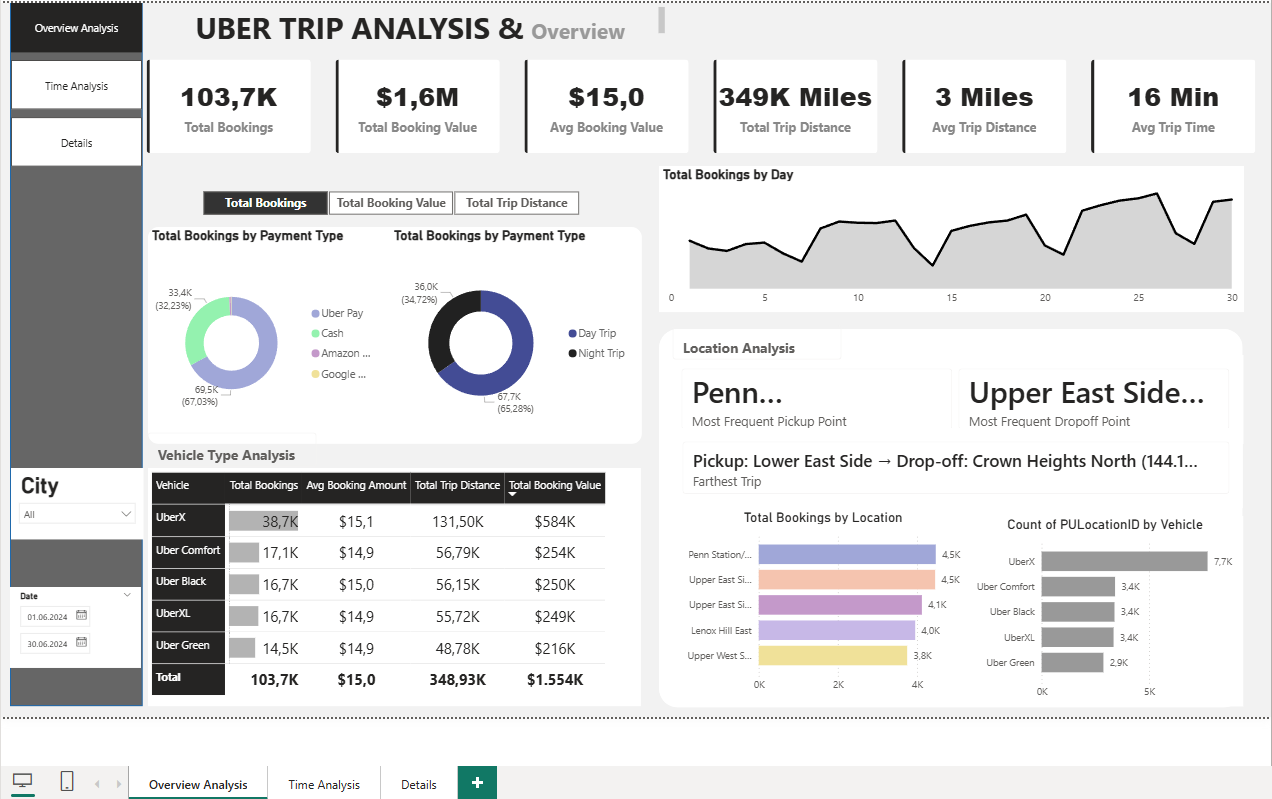

What the dashboard file says about the page in this screenshot:
{"tool":"powerbi","page":{"name":"Overview Analysis","canvas":[1600,900],"ordinal":0},"visuals":[{"type":"shape","box":[10.8,0,167,885.8],"z":0},{"type":"textbox","box":[228.8,0,612.2,63.4],"z":1000},{"type":"cardVisual","fields":{"Data":["Trip Details.Total Bookings","Trip Details.Total Booking Amount","Trip Details.Avg Booking Amount","Trip Details.Total Trip Distance","Trip Details.Avg Trip Distance","Trip Details.Avg Trip Time"]},"box":[166.8,53.7,1432.8,152.2],"z":2000},{"type":"shape","box":[185.2,282.2,622.4,273.4],"z":3000},{"type":"slicer","fields":{"Values":["Dynamic Measure.Dynamic Measure"]},"box":[228.8,230.3,522.5,41.7],"z":4000},{"type":"donutChart","title":"Total Bookings by Payment Type","fields":{"Category":["Trip Details.Payment_type"],"Y":["Trip Details.Total Bookings"]},"box":[185.2,282.2,296.1,273.4],"z":5000},{"type":"donutChart","title":"Total Bookings by Payment Type","fields":{"Category":["Trip Details.Trip Typle Day/ Night"],"Y":["Trip Details.Total Bookings"]},"box":[490.1,282.2,309.9,273.4],"z":6000},{"type":"shape","box":[829.5,410.8,735.4,476.9],"z":7000},{"type":"pivotTable","fields":{"Rows":["Trip Details.Vehicle"],"Values":["Trip Details.Total Bookings","Trip Details.Avg Booking Amount","Trip Details.Total Trip Distance Measure","Trip Details.Total Booking Value"]},"box":[185.5,585.9,621.4,299.9],"z":8000},{"type":"cardVisual","fields":{"Data":["Trip Details.Title for Grid"]},"box":[167,524.1,247.3,77.3],"z":9000},{"type":"shape","box":[884.3,205.6,680.2,184],"z":10000},{"type":"areaChart","fields":{"Category":["Calendar Table.Date.Variation.Date Hierarchy.Day"],"Y":["Trip Details.Total Bookings"]},"box":[829.5,206,736.6,183.6],"z":11000},{"type":"cardVisual","fields":{"Data":["Trip Details.Most Frequent Pickup Point","Trip Details.Most Frequent Dropoff Point"]},"box":[840.7,443.3,725.4,111.9],"z":12000},{"type":"cardVisual","fields":{"Data":["Trip Details.Farthest Trip"]},"box":[841.8,535.1,723.1,100.7],"z":13000},{"type":"barChart","fields":{"Category":["Location Table.Location"],"Y":["Trip Details.Total Bookings"]},"box":[846.3,636.9,378.4,239.6],"z":14000},{"type":"barChart","fields":{"Category":["Trip Details.Vehicle"],"Y":["CountNonNull(Trip Details.PULocationID)"]},"box":[1216.8,645.9,348.1,239.6],"z":15000},{"type":"cardVisual","fields":{"Data":["Trip Details.Title for Location"]},"box":[829.5,389.6,247.4,77.2],"z":16000},{"type":"slicer","fields":{"Values":["Calendar Table.Date"]},"box":[10.8,735.8,165.4,102],"z":17000},{"type":"slicer","fields":{"Values":["Location Table.City"]},"box":[12.4,585.9,167,89.7],"z":18000},{"type":"pageNavigator","box":[12.4,0,165.4,208.7],"z":18001}]}

Visuals, with their boxes on the page's 1600x900 design canvas (x1, y1, x2, y2). These are canvas units, not pixel positions in the 1272x799 screenshot, which may show the page scaled, cropped or inside an application window:
shape: l=11, t=0, r=178, b=886
textbox: l=229, t=0, r=841, b=63
cardVisual - Trip Details.Total Bookings x Trip Details.Total Booking Amount: l=167, t=54, r=1600, b=206
shape: l=185, t=282, r=808, b=556
slicer - Dynamic Measure.Dynamic Measure: l=229, t=230, r=751, b=272
"Total Bookings by Payment Type" donutChart: l=185, t=282, r=481, b=556
"Total Bookings by Payment Type" donutChart: l=490, t=282, r=800, b=556
shape: l=830, t=411, r=1565, b=888
pivotTable - Trip Details.Vehicle x Trip Details.Total Bookings: l=186, t=586, r=807, b=886
cardVisual - Trip Details.Title for Grid: l=167, t=524, r=414, b=601
shape: l=884, t=206, r=1564, b=390
areaChart - Calendar Table.Date.Variation.Date Hierarchy.Day x Trip Details.Total Bookings: l=830, t=206, r=1566, b=390
cardVisual - Trip Details.Most Frequent Pickup Point x Trip Details.Most Frequent Dropoff Point: l=841, t=443, r=1566, b=555
cardVisual - Trip Details.Farthest Trip: l=842, t=535, r=1565, b=636
barChart - Location Table.Location x Trip Details.Total Bookings: l=846, t=637, r=1225, b=876
barChart - Trip Details.Vehicle x CountNonNull(Trip Details.PULocationID): l=1217, t=646, r=1565, b=886
cardVisual - Trip Details.Title for Location: l=830, t=390, r=1077, b=467
slicer - Calendar Table.Date: l=11, t=736, r=176, b=838
slicer - Location Table.City: l=12, t=586, r=179, b=676
pageNavigator: l=12, t=0, r=178, b=209
